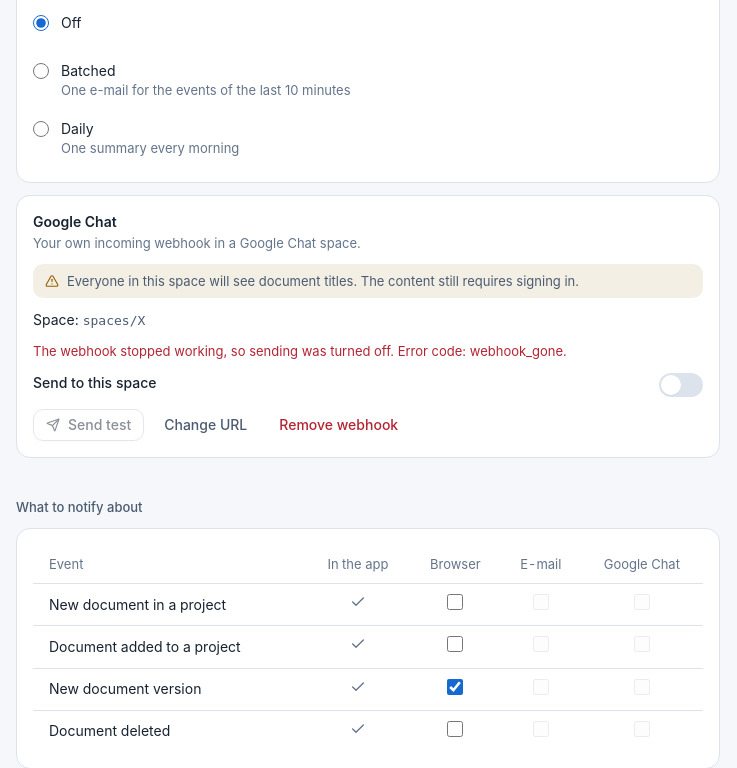
Scenario: NotificationSettings › shows why the webhook stopped and lets the user switch it
(page scrolled)
Expected: the text "Error code: webhook_gone" is shown, [398, 344, 567, 360]
Step 1. Click the switch named "Send to this space" → (681, 385), box [659, 373, 703, 397]
(page scrolled)
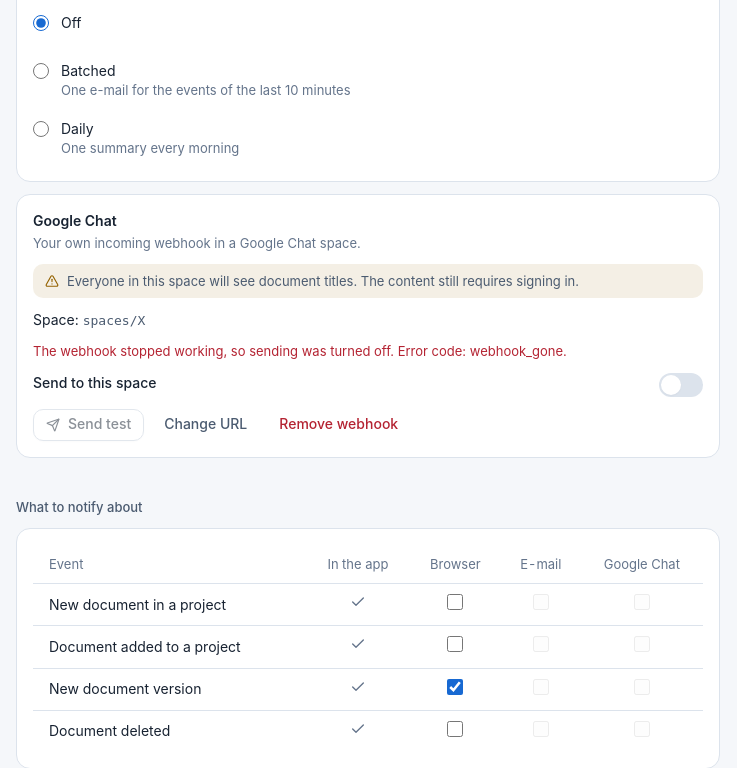
Step 2. Click the button "Change URL" → (206, 425), box [152, 409, 259, 441]
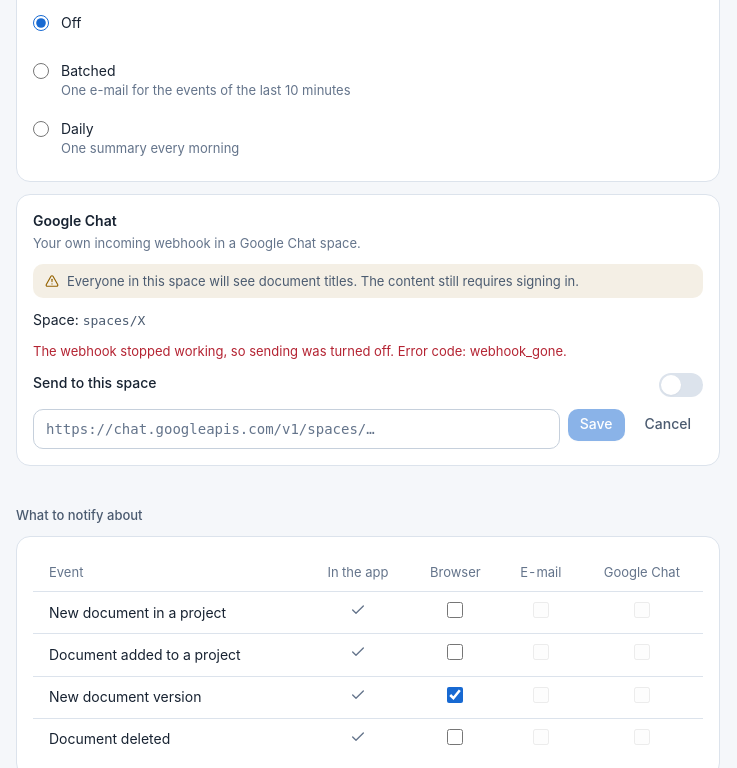
Step 3. Click the button "Cancel" → (668, 425), box [632, 409, 703, 441]
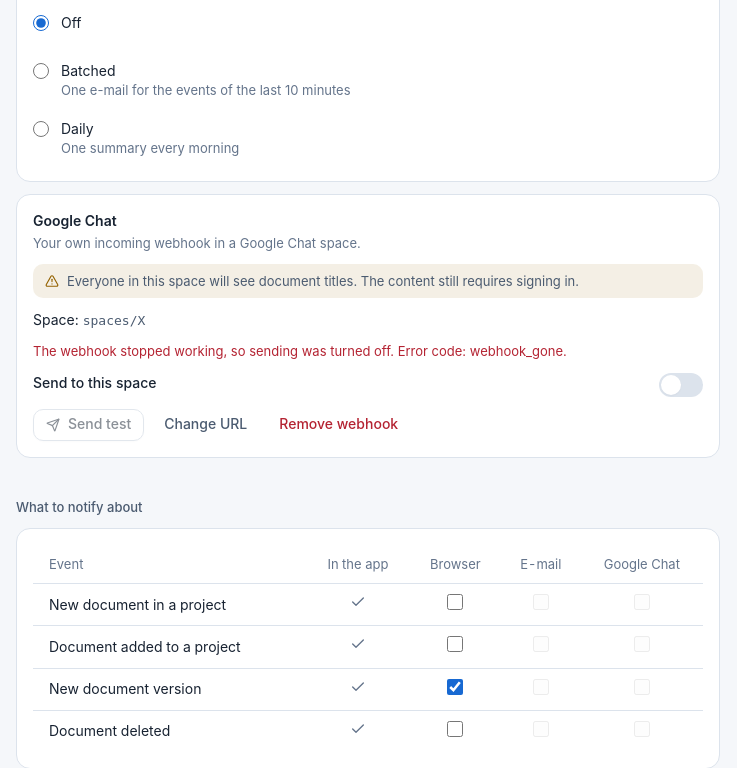
Result: the field labelled "Google Chat webhook URL" is gone
